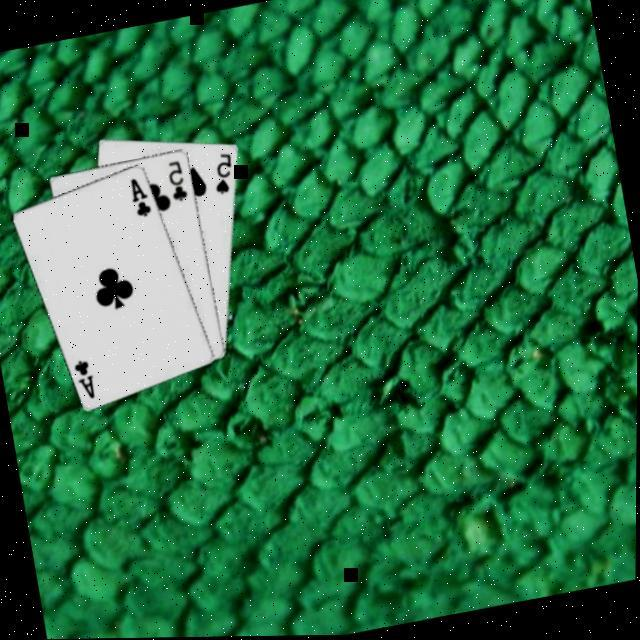5C: (163, 158, 191, 207)
5S: (206, 150, 240, 200)
AC: (124, 174, 154, 223), (70, 356, 100, 405)
